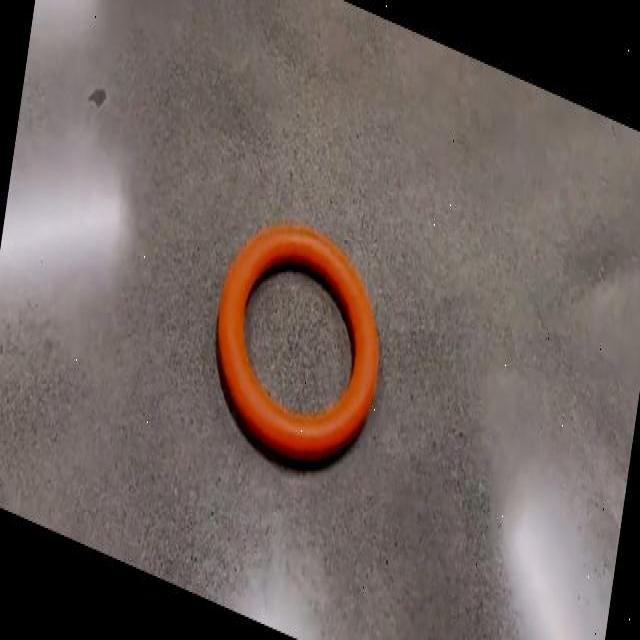note: (217, 224, 379, 461)
